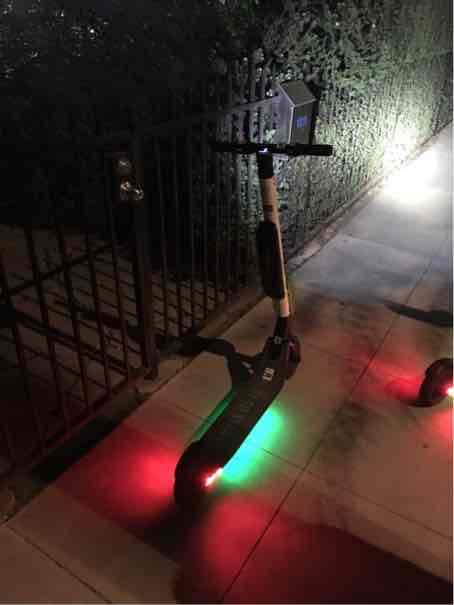scooter: (171, 129, 347, 511)
